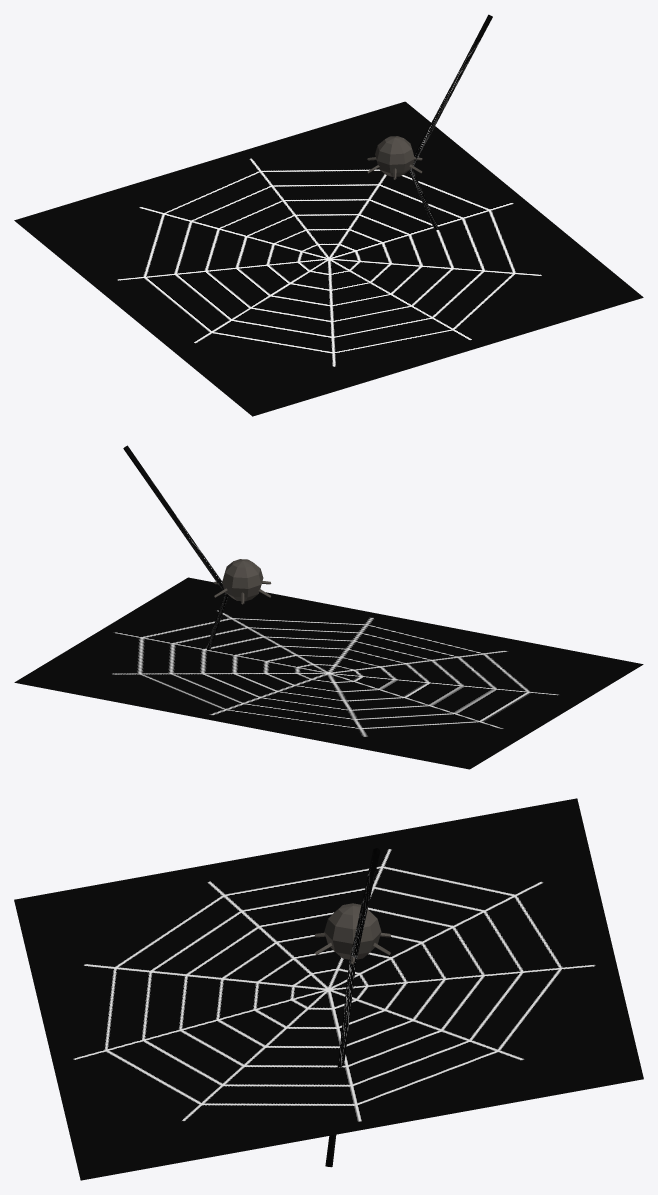
File: mieu-hoang-mang-nhen.glb
The picture shows the model from 3 angles, top to bottom: view 1: azimuth 30°, elevation 25°; view 2: azimuth 150°, elevation 25°; view 3: azimuth 270°, elevation 25°; orthographic projection. The views are drawn at different scales.
Visible parts, largest first — view 1: mieu-hoang-mang-nhen; view 2: mieu-hoang-mang-nhen; view 3: mieu-hoang-mang-nhen.
Part boxes in pixels (left/top/right/bottom): mieu-hoang-mang-nhen: left=14, top=14, right=643, bottom=416; mieu-hoang-mang-nhen: left=14, top=445, right=643, bottom=769; mieu-hoang-mang-nhen: left=14, top=798, right=643, bottom=1180.
Size of the model in its own units: 1.51 by 0.8074 by 1.32.
Materials: 2 (1 with a texture image).
